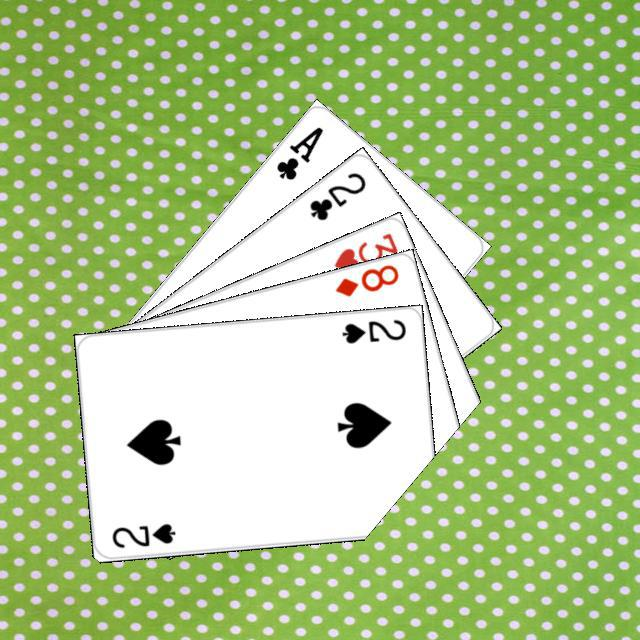2c: (304, 167, 368, 223)
2s: (107, 518, 177, 550), (337, 314, 408, 345)
3h: (329, 228, 400, 273)
8d: (330, 259, 401, 299)
Ac: (271, 121, 325, 182)
